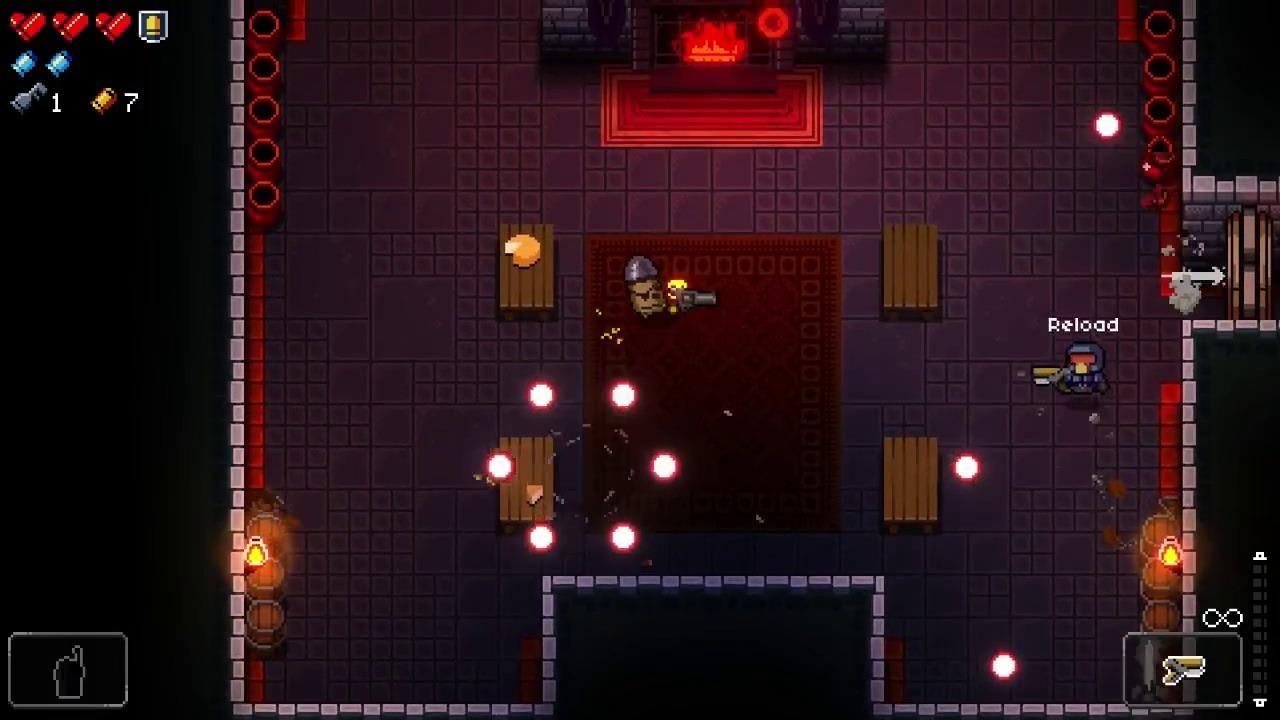bullet: (650, 450, 680, 483), (609, 521, 639, 554), (486, 451, 516, 483), (527, 380, 557, 411), (954, 451, 981, 485), (528, 523, 557, 554), (991, 651, 1020, 682), (1093, 111, 1122, 142), (610, 382, 638, 411)
locked_door: (1229, 207, 1272, 320)
player: (1066, 343, 1105, 399)
table: (499, 224, 552, 323), (884, 224, 938, 321), (884, 437, 937, 534), (499, 438, 553, 533)
veteran_bullet_kin: (624, 255, 667, 318)
